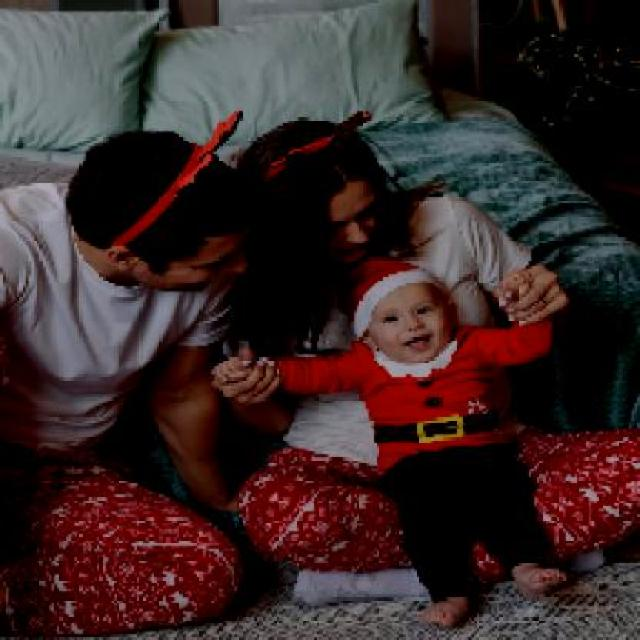child: (243, 257, 572, 629)
